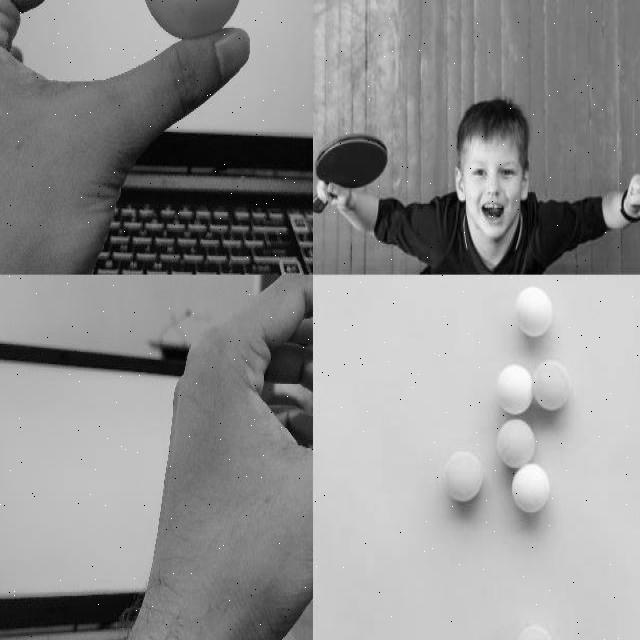ping-pong-ball: (139, 0, 243, 39), (443, 452, 482, 502), (496, 417, 534, 468), (515, 285, 553, 336), (494, 361, 532, 412), (512, 465, 550, 516), (532, 360, 570, 410), (515, 625, 554, 639)
